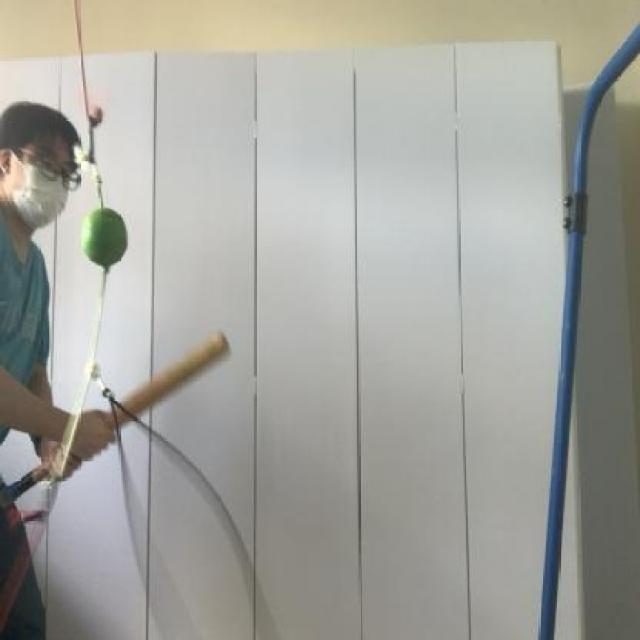baseball: (76, 207, 138, 282)
